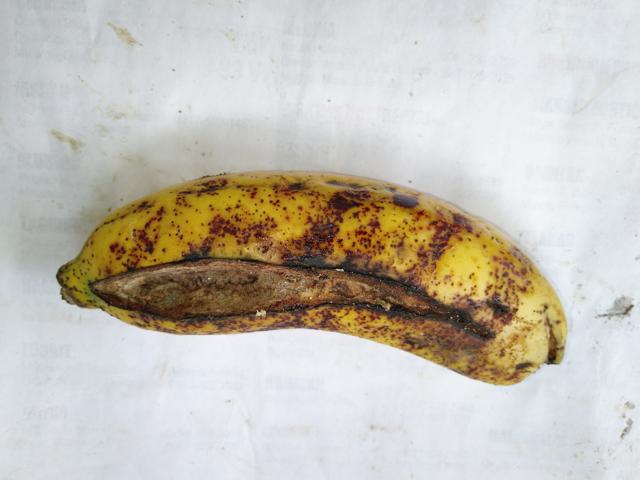rotten: (91, 208, 589, 420)
